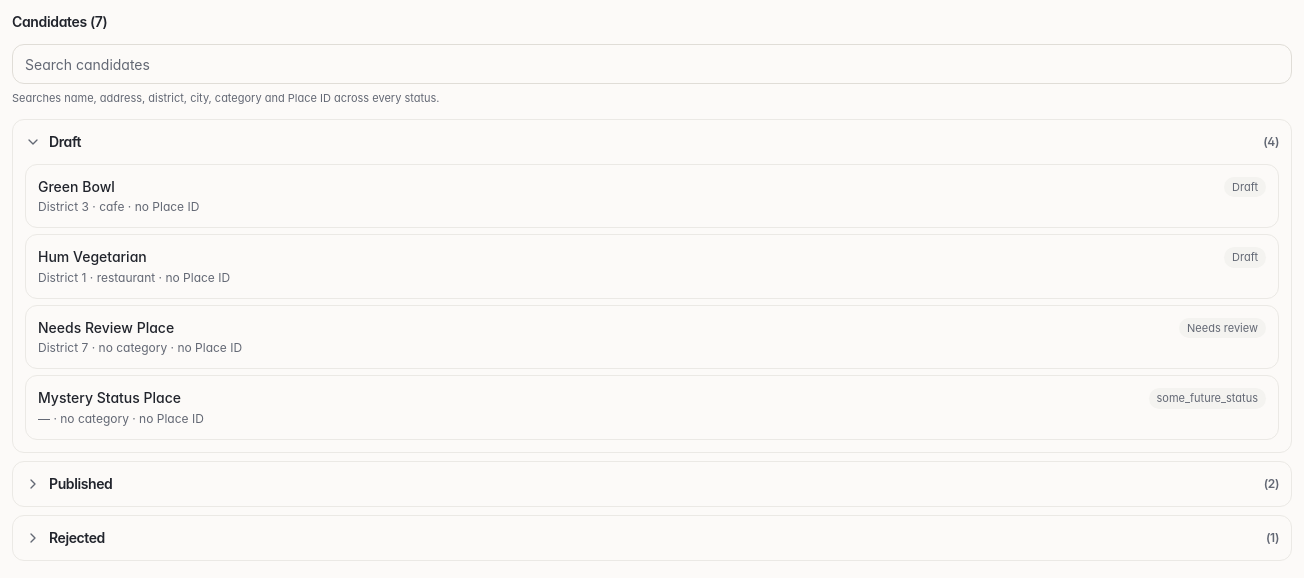
Scenario: WO-128 candidate search › searches by district across statuses
In the search field with placeholder "Search candidates": (652, 64) [12,44,1292,84], type "district 3"
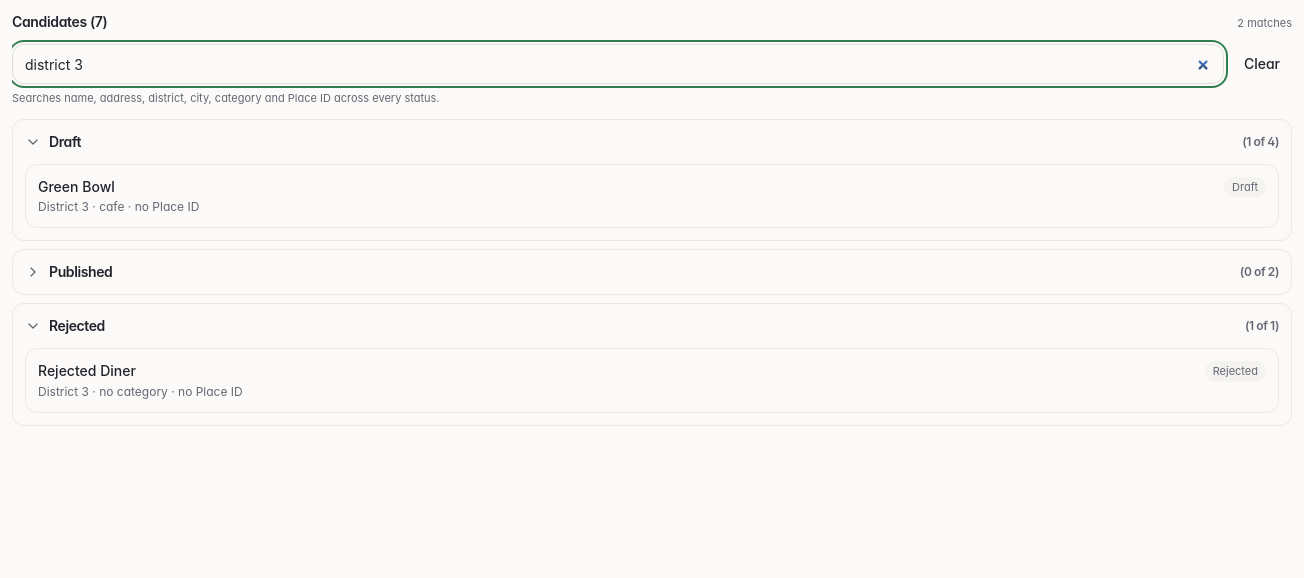
Expected: the text "Green Bowl" is shown, [38,176,115,196]
Expected: the text "Rejected Diner" is shown, [38,361,136,381]
